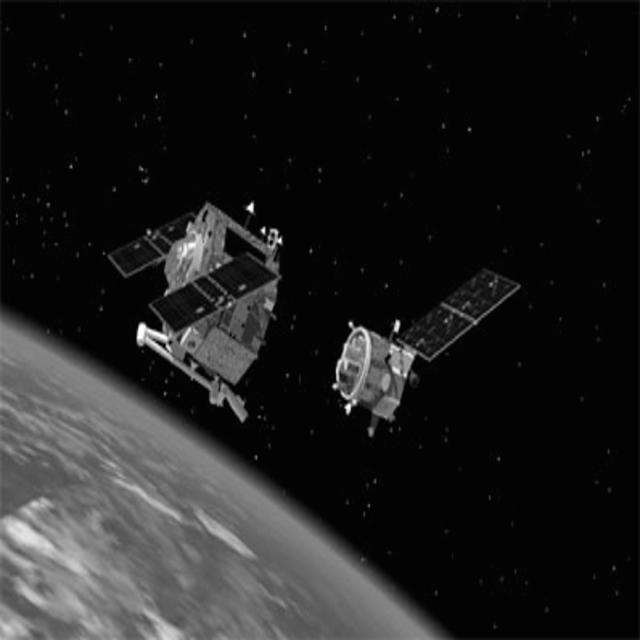satellite: (100, 143, 292, 439), (330, 249, 528, 485)
